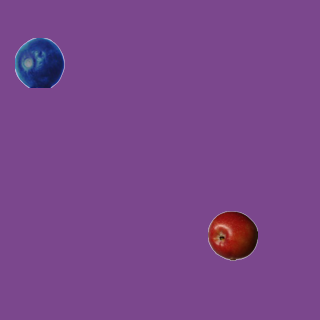Apple Braeburn: (207, 210, 257, 260)
Huckleberry: (14, 37, 64, 87)
